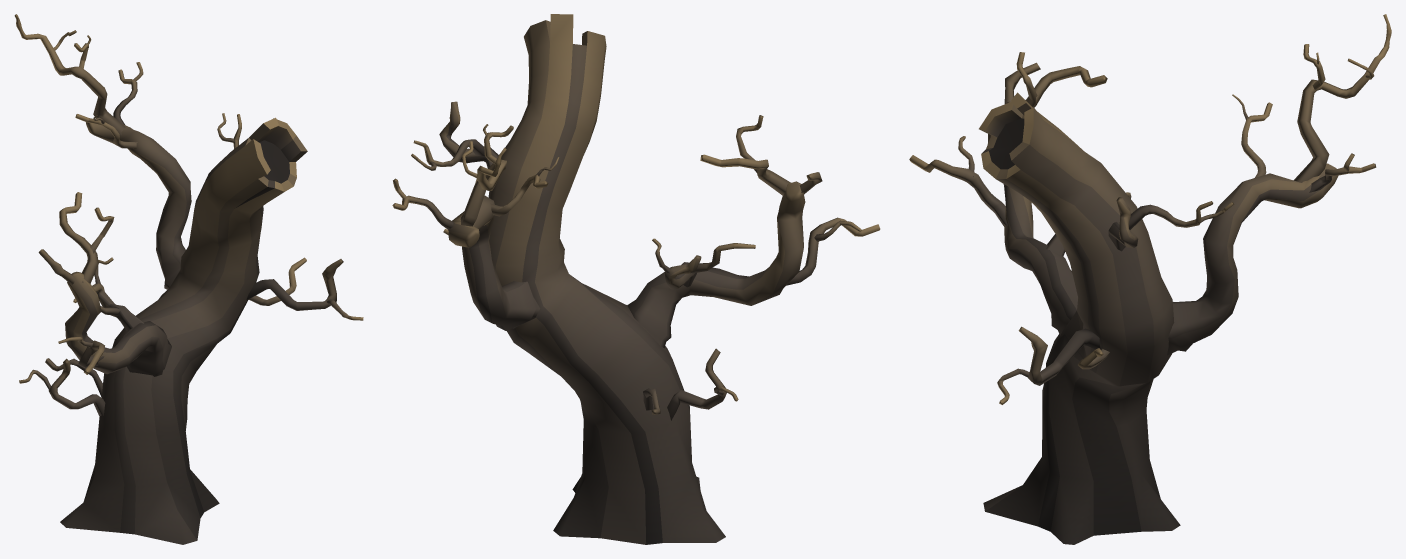
File: dead_tree.fbx
3 views of the same model, side by side, from view 1: azimuth 30°, elevation 25°; view 2: azimuth 150°, elevation 25°; view 3: azimuth 270°, elevation 25° (orthographic). The views are drawn at different scales.
Parts seen in each view (by area): view 1: dead_tree; view 2: dead_tree; view 3: dead_tree.
Boxes of the visible parts, left/top/right/bottom form: dead_tree: left=14, top=14, right=363, bottom=544; dead_tree: left=392, top=14, right=880, bottom=544; dead_tree: left=909, top=14, right=1391, bottom=544.
Size of the model in its own units: 342 by 415 by 371.
